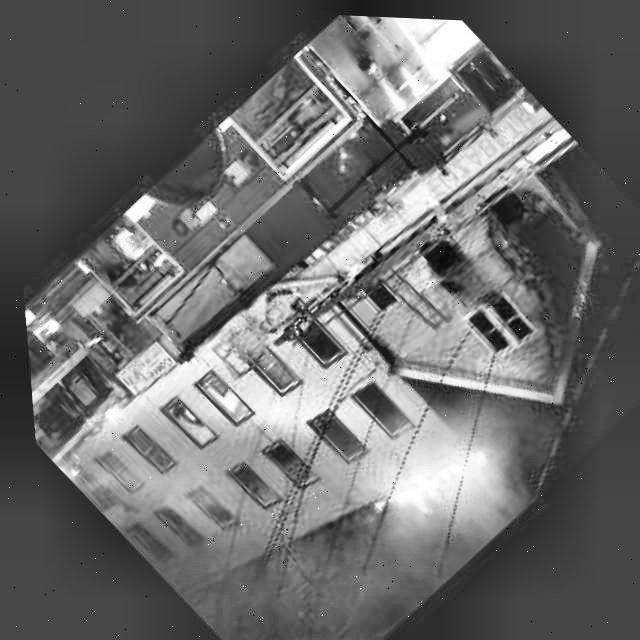Fire: (371, 424, 488, 532)
